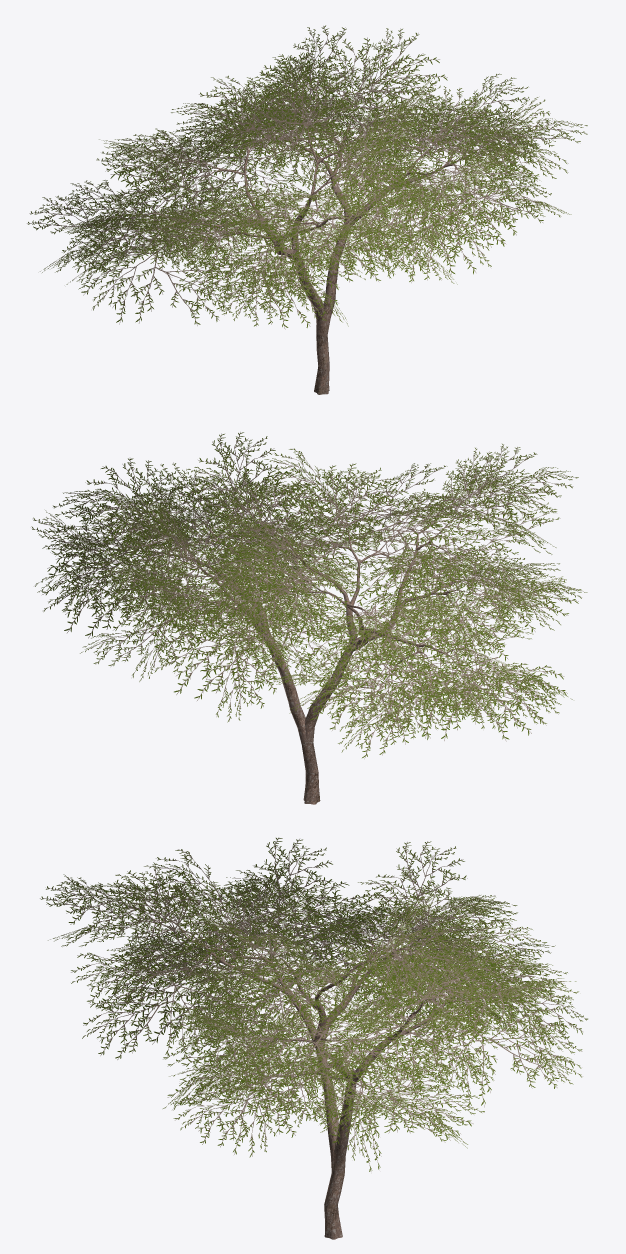
File: koa.glb
3 renders of one model, top to bottom at view 1: azimuth 30°, elevation 25°; view 2: azimuth 150°, elevation 25°; view 3: azimuth 270°, elevation 25°, orthographic. The views are drawn at different scales.
Visible parts, largest first — view 1: acacia branch_1, bark05_0; view 2: acacia branch_1, bark05_0; view 3: acacia branch_1, bark05_0.
Part boxes in pixels (x1=…): acacia branch_1: x1=27, y1=25, x2=587, y2=329; bark05_0: x1=97, y1=83, x2=518, y2=394; acacia branch_1: x1=31, y1=432, x2=587, y2=758; bark05_0: x1=101, y1=493, x2=502, y2=804; acacia branch_1: x1=40, y1=837, x2=587, y2=1171; bark05_0: x1=120, y1=902, x2=516, y2=1239.
Bounding box in the file's own units: 13.54 × 7.11 × 11.11.
Materials: 2 (2 with a texture image).
